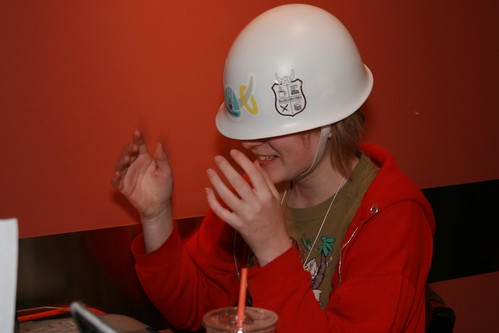person hardhat: (112, 4, 435, 332)
